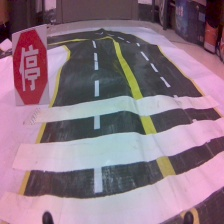stop: (12, 23, 52, 107)
